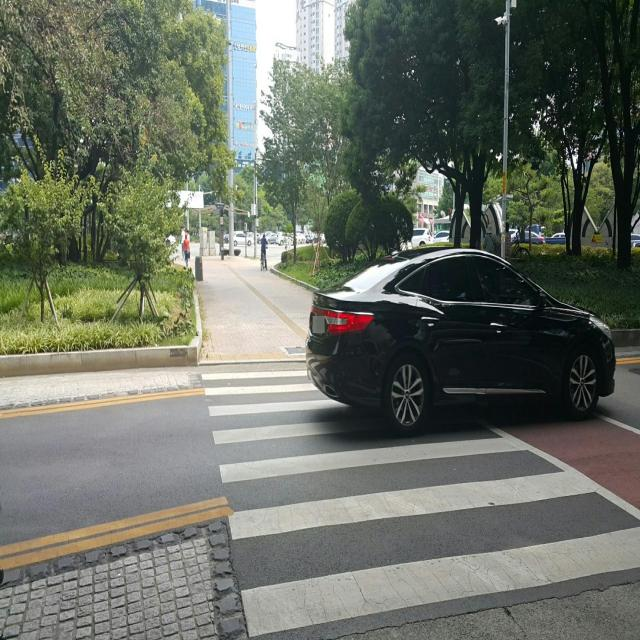횡단보도: (200, 366, 640, 640)
